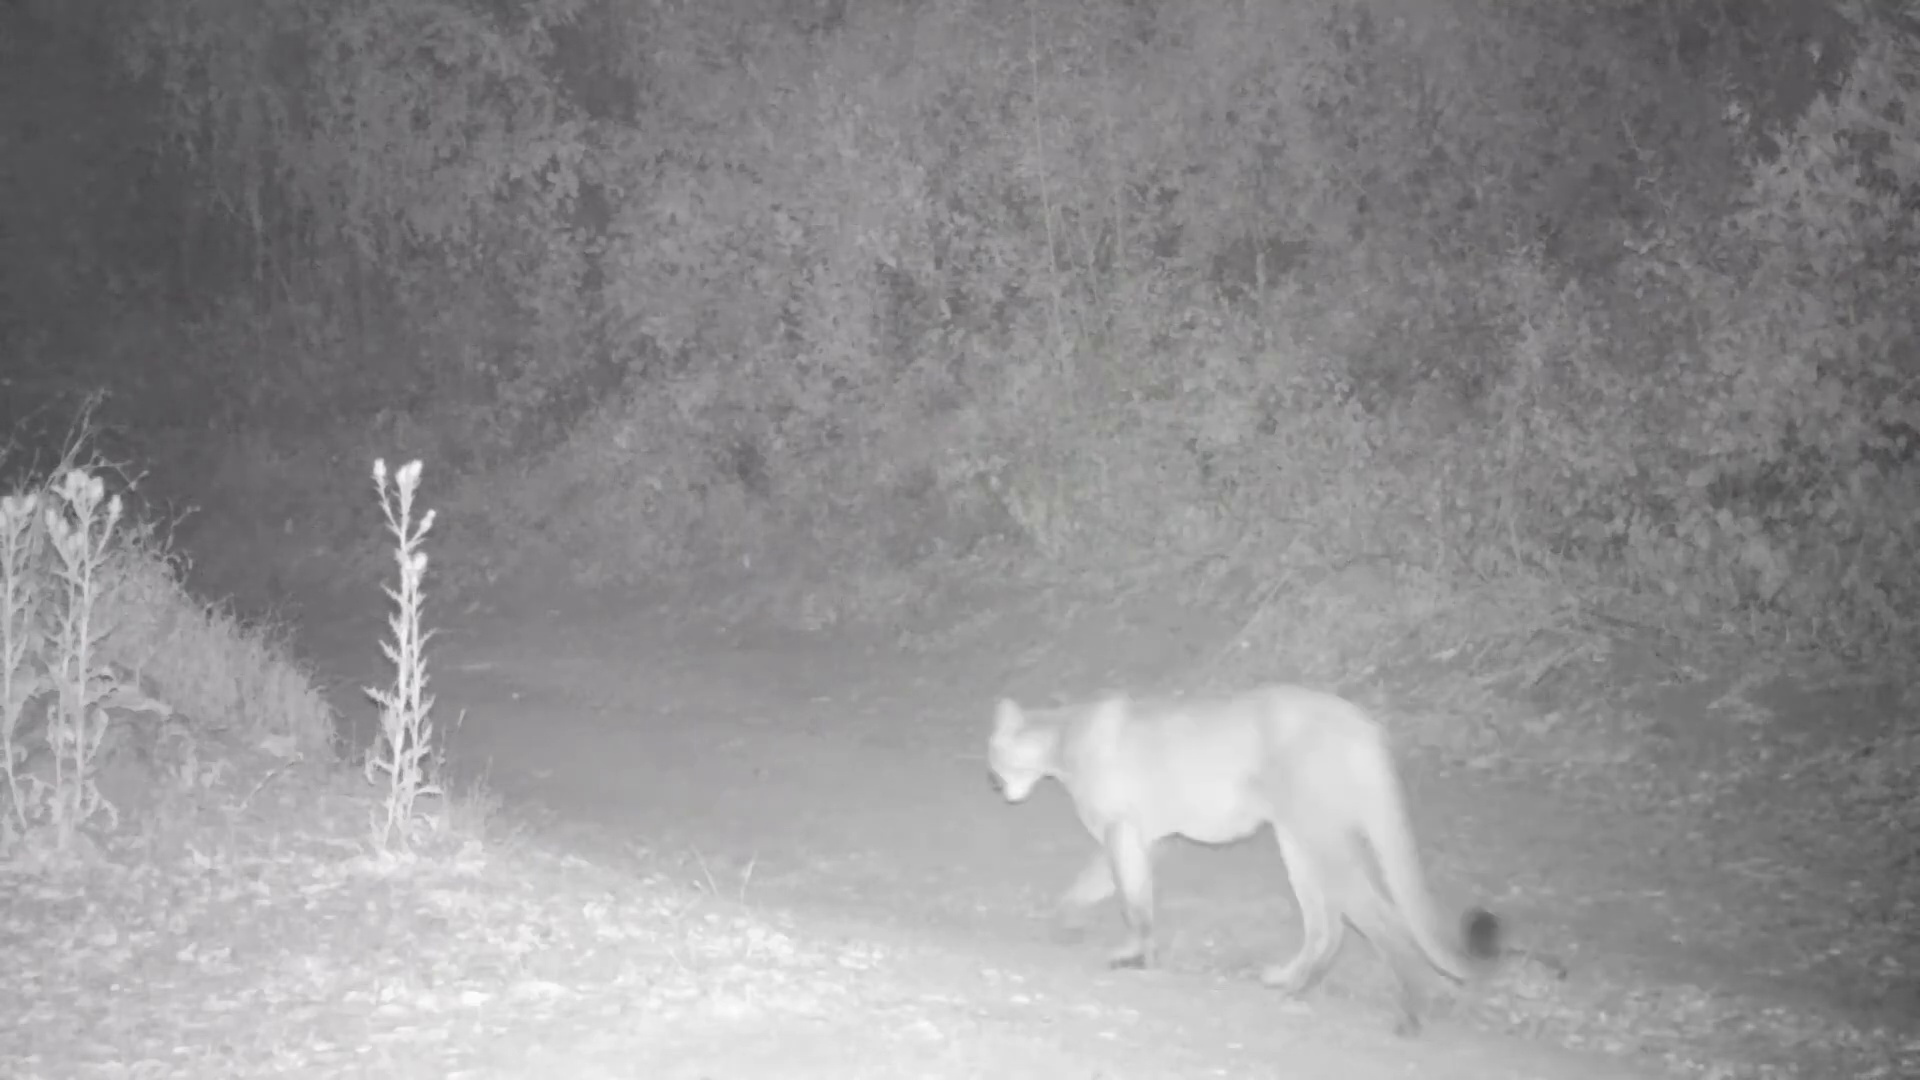Lion: (986, 680, 1505, 1040)
